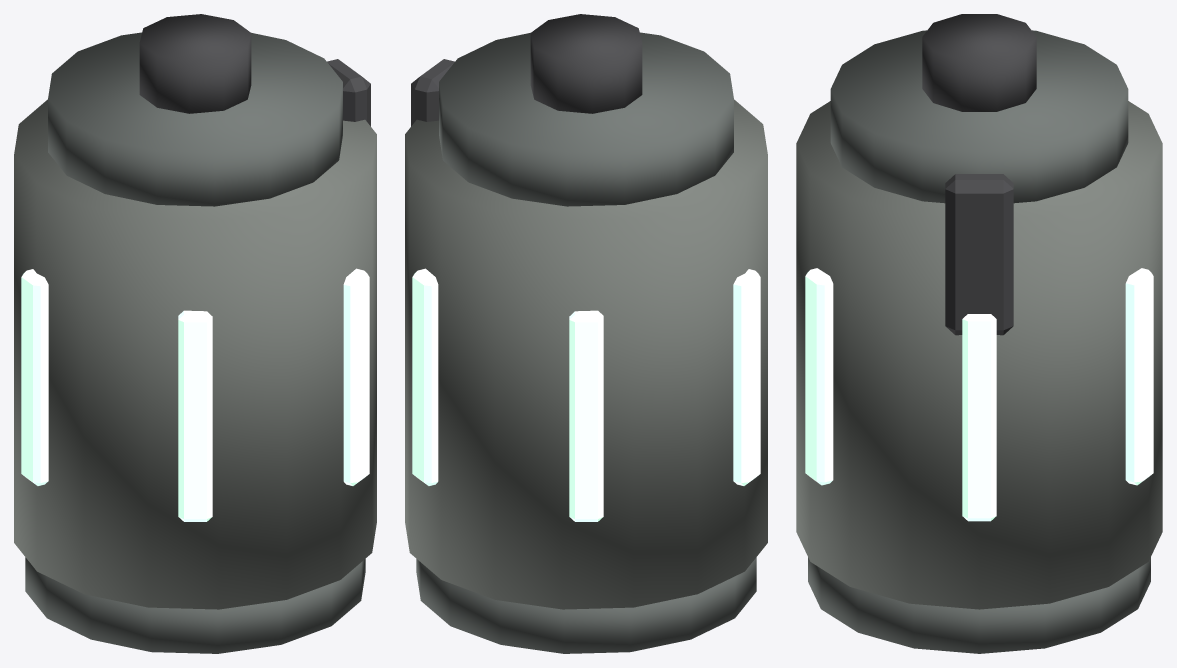
File: plasma_grenade.glb
3 views of the same model, side by side, from view 1: azimuth 30°, elevation 25°; view 2: azimuth 150°, elevation 25°; view 3: azimuth 270°, elevation 25° (orthographic).
Visible parts, largest first — view 1: Plasma_grenade; view 2: Plasma_grenade; view 3: Plasma_grenade.
Boxes of the visible parts, x1,y1,x2,y2 form: Plasma_grenade: [14, 14, 376, 653]; Plasma_grenade: [405, 14, 767, 653]; Plasma_grenade: [796, 14, 1162, 653].
Size of the model in its own units: 0.068 by 0.105 by 0.064.
